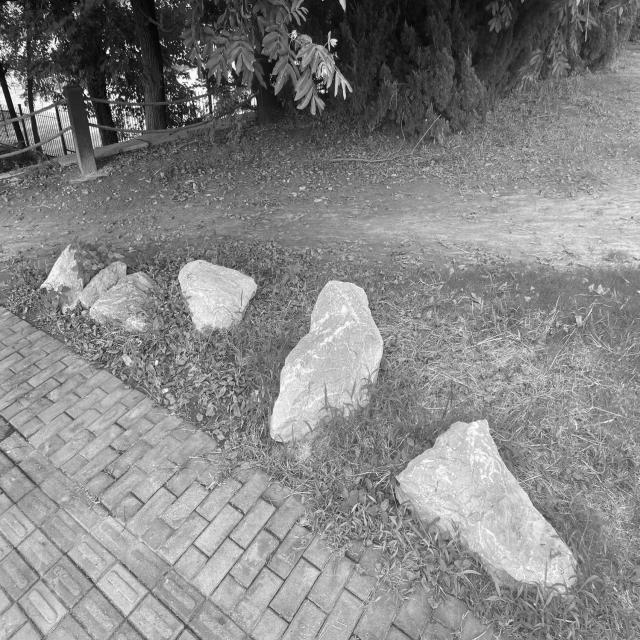Stone: (396, 420, 575, 589), (270, 281, 384, 442), (178, 260, 258, 331), (89, 272, 155, 332), (40, 246, 84, 311), (79, 262, 126, 308)
